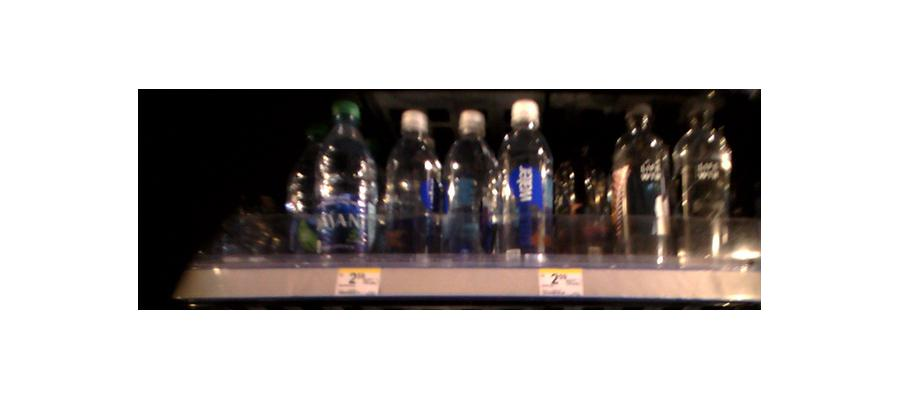bottle: (307, 99, 377, 264), (674, 94, 735, 267), (495, 99, 555, 263), (611, 103, 673, 259), (381, 113, 443, 263), (439, 112, 497, 264), (559, 132, 607, 257)
